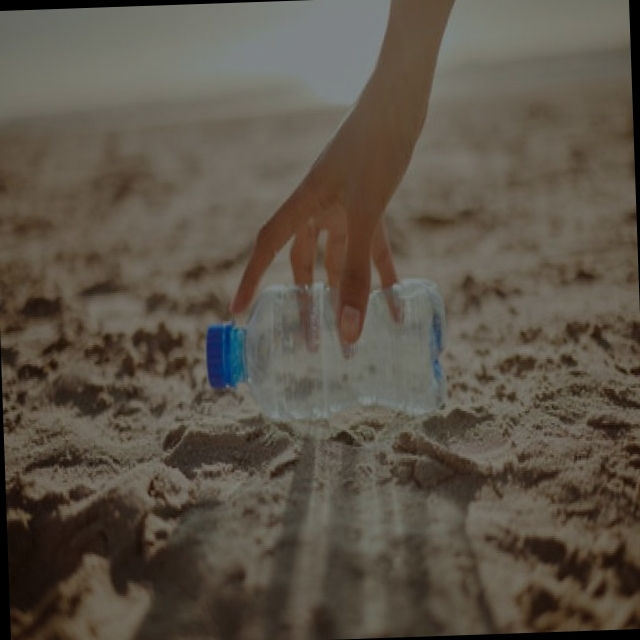Plastic-bottle: (195, 270, 456, 432)
